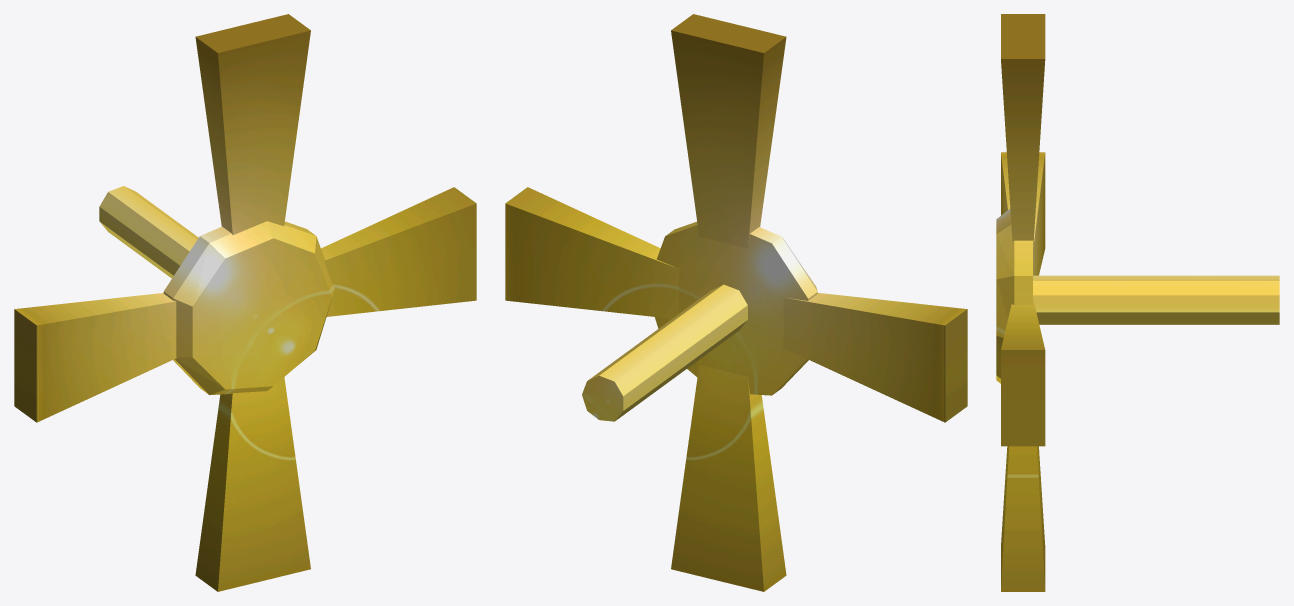
File: SHandle.glb
The picture shows the model from 3 angles, left to right: view 1: azimuth 30°, elevation 25°; view 2: azimuth 150°, elevation 25°; view 3: azimuth 270°, elevation 25°; orthographic projection.
Visible parts, largest first — view 1: SHandle; view 2: SHandle; view 3: SHandle.
Boxes of the visible parts, x1,y1,x2,y2 form: SHandle: [14, 14, 476, 591]; SHandle: [505, 14, 967, 591]; SHandle: [996, 14, 1279, 591].
Bounding box in the file's own units: 103 × 120 × 57.83.
1 material, 1 textured.
